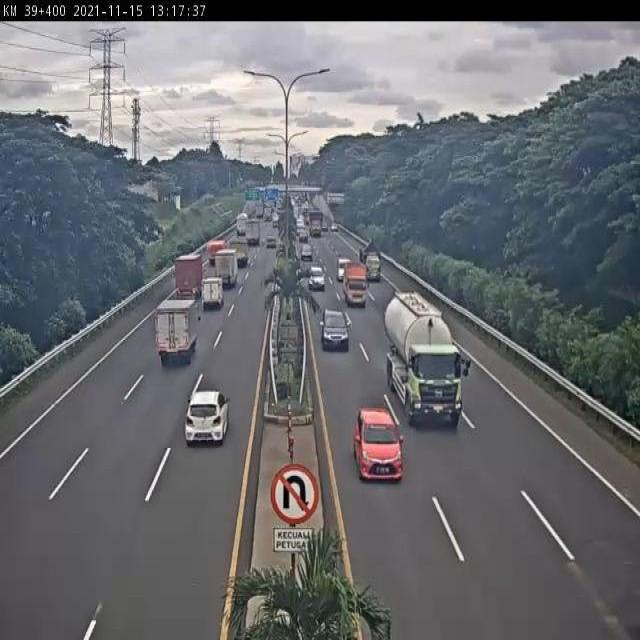car: (352, 407, 404, 481), (183, 385, 229, 444), (318, 303, 349, 353), (309, 260, 328, 292)
truck-l-: (383, 290, 469, 430)
truck-m-: (173, 252, 206, 297)
truck-s-: (155, 297, 204, 363), (341, 261, 369, 308), (359, 238, 383, 282), (198, 275, 225, 309)
